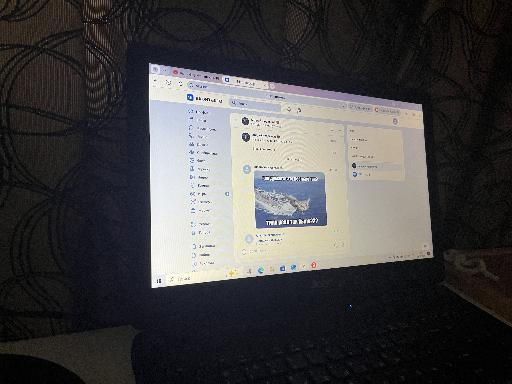vk: (151, 86, 431, 276)
